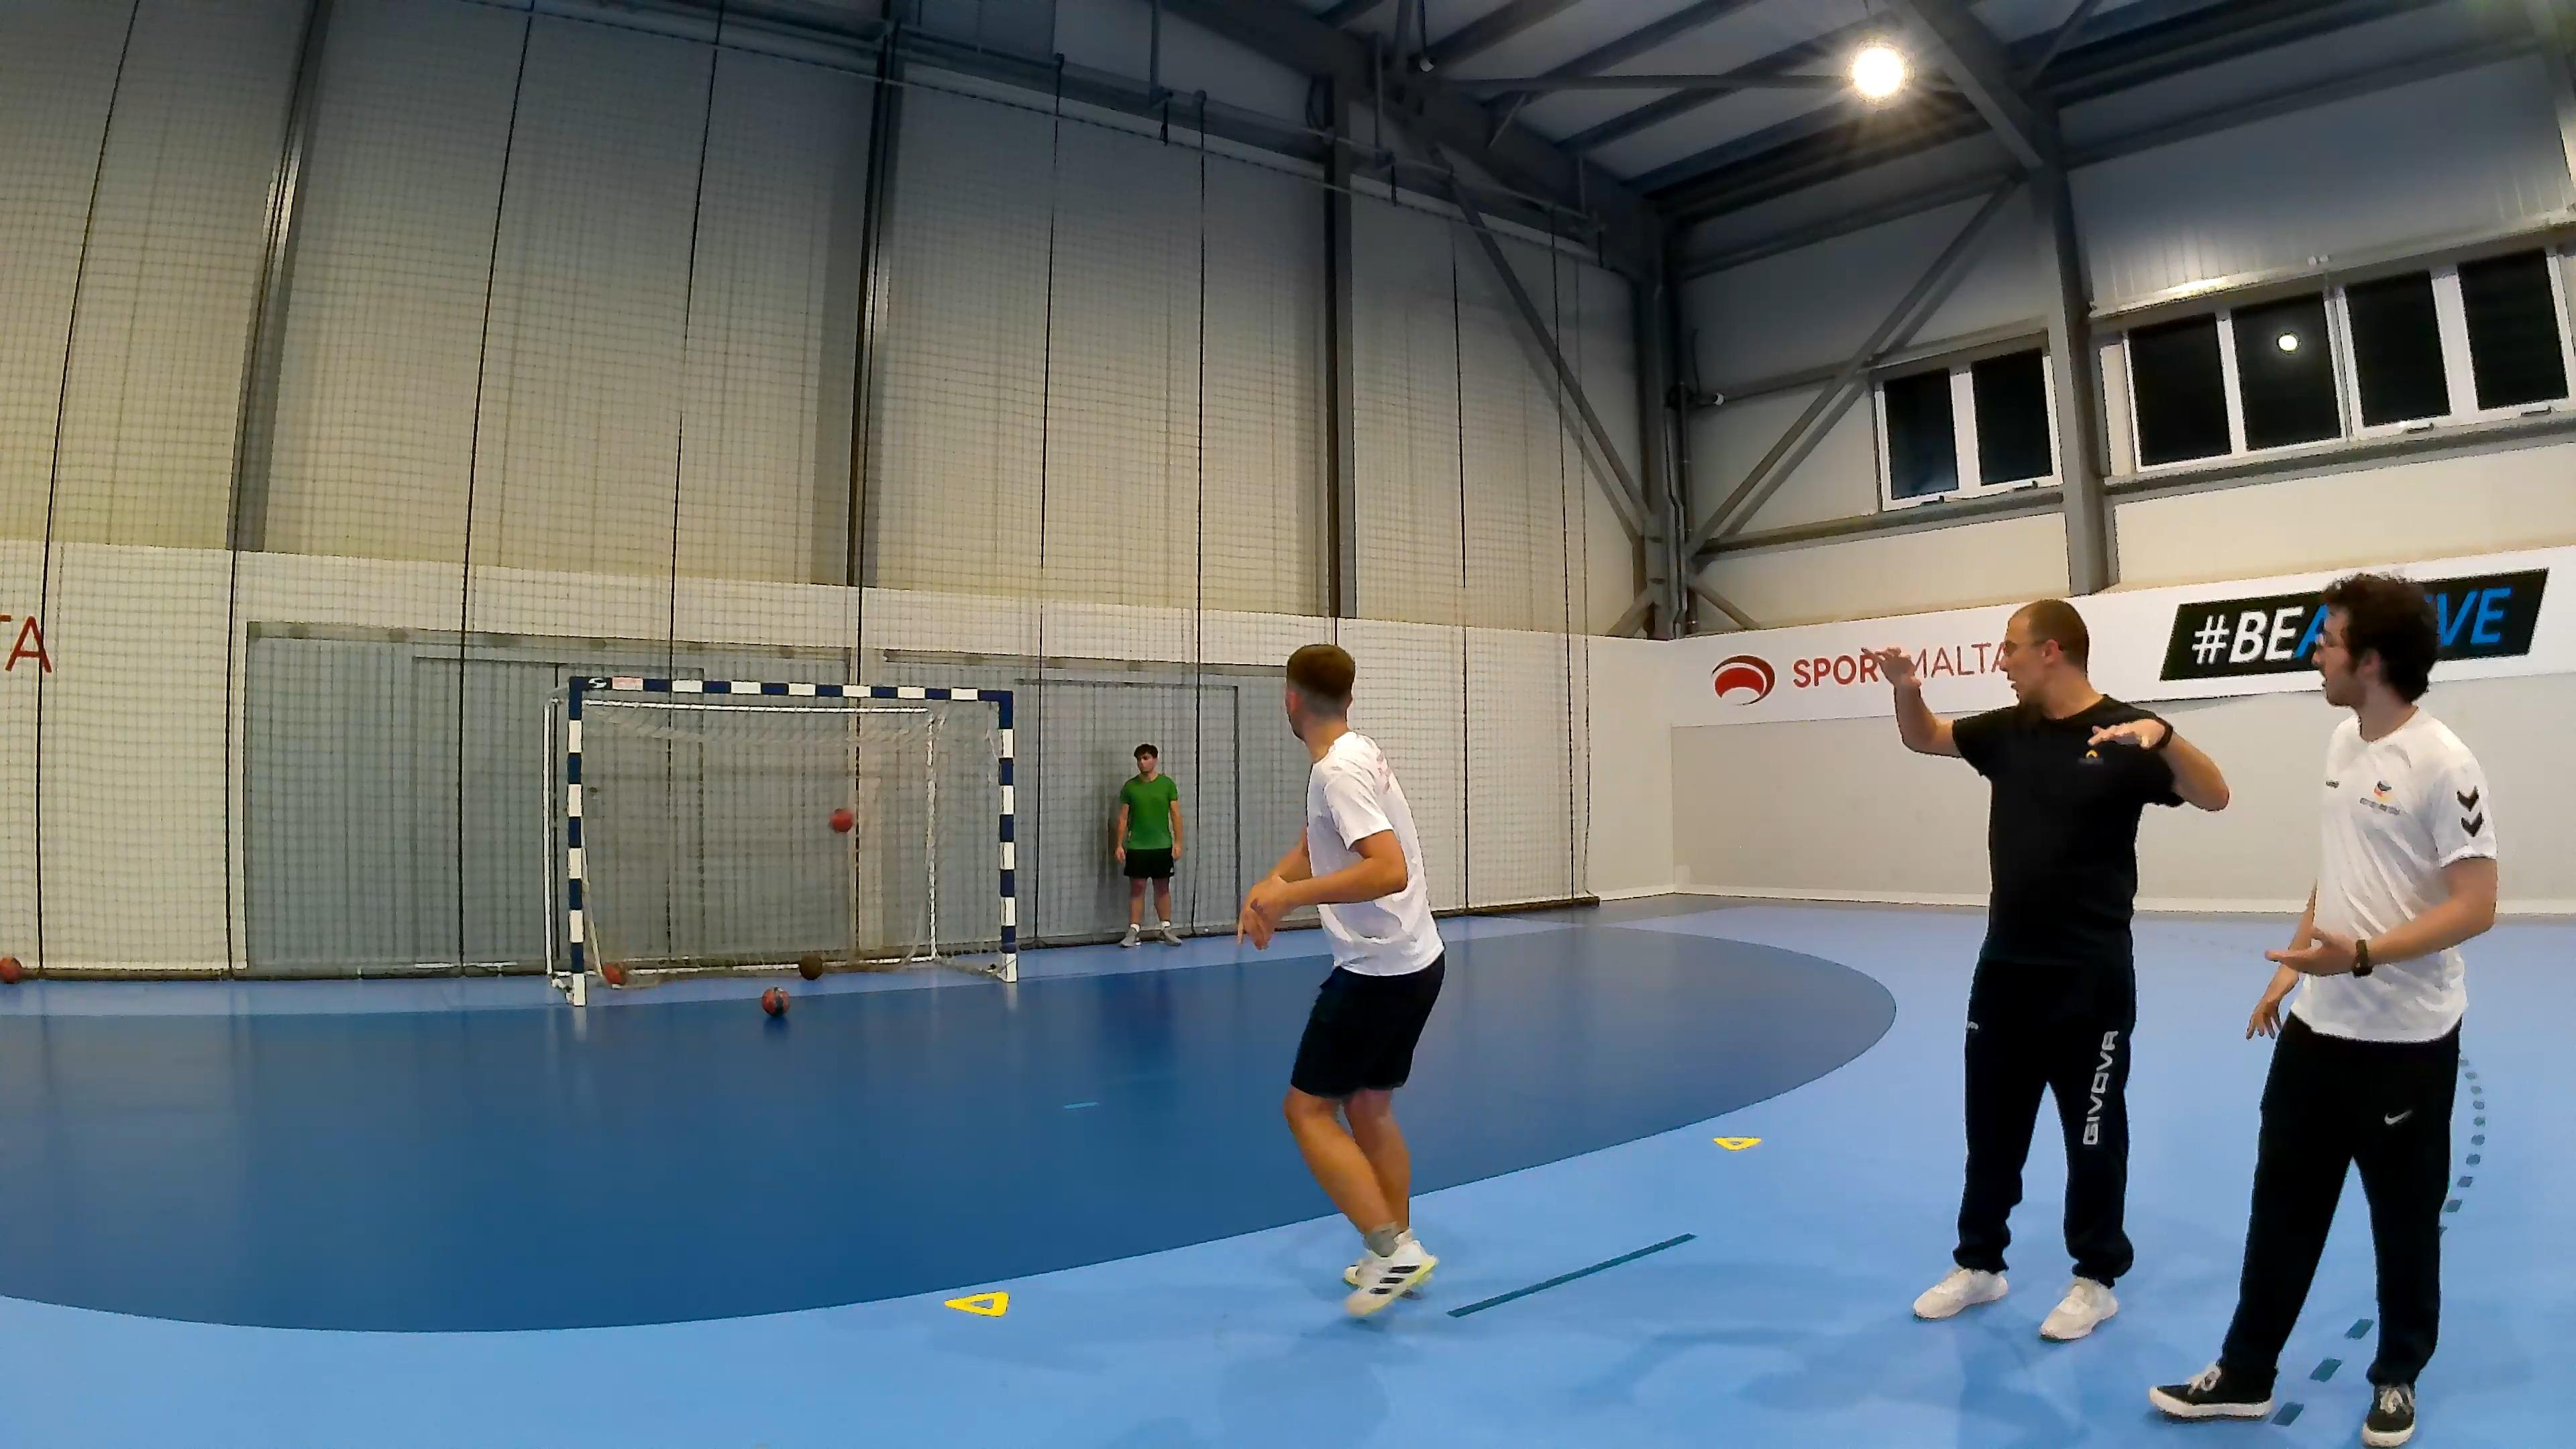handball: (596, 957, 633, 996), (796, 952, 830, 984), (828, 809, 856, 842), (761, 985, 787, 1016)
